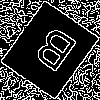B: (25, 25, 80, 82)
